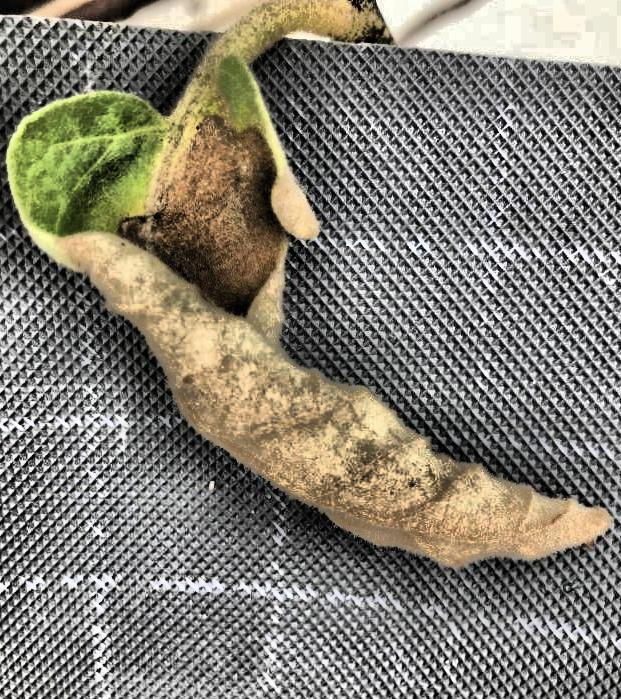Critical Stress: (1, 0, 621, 699)
